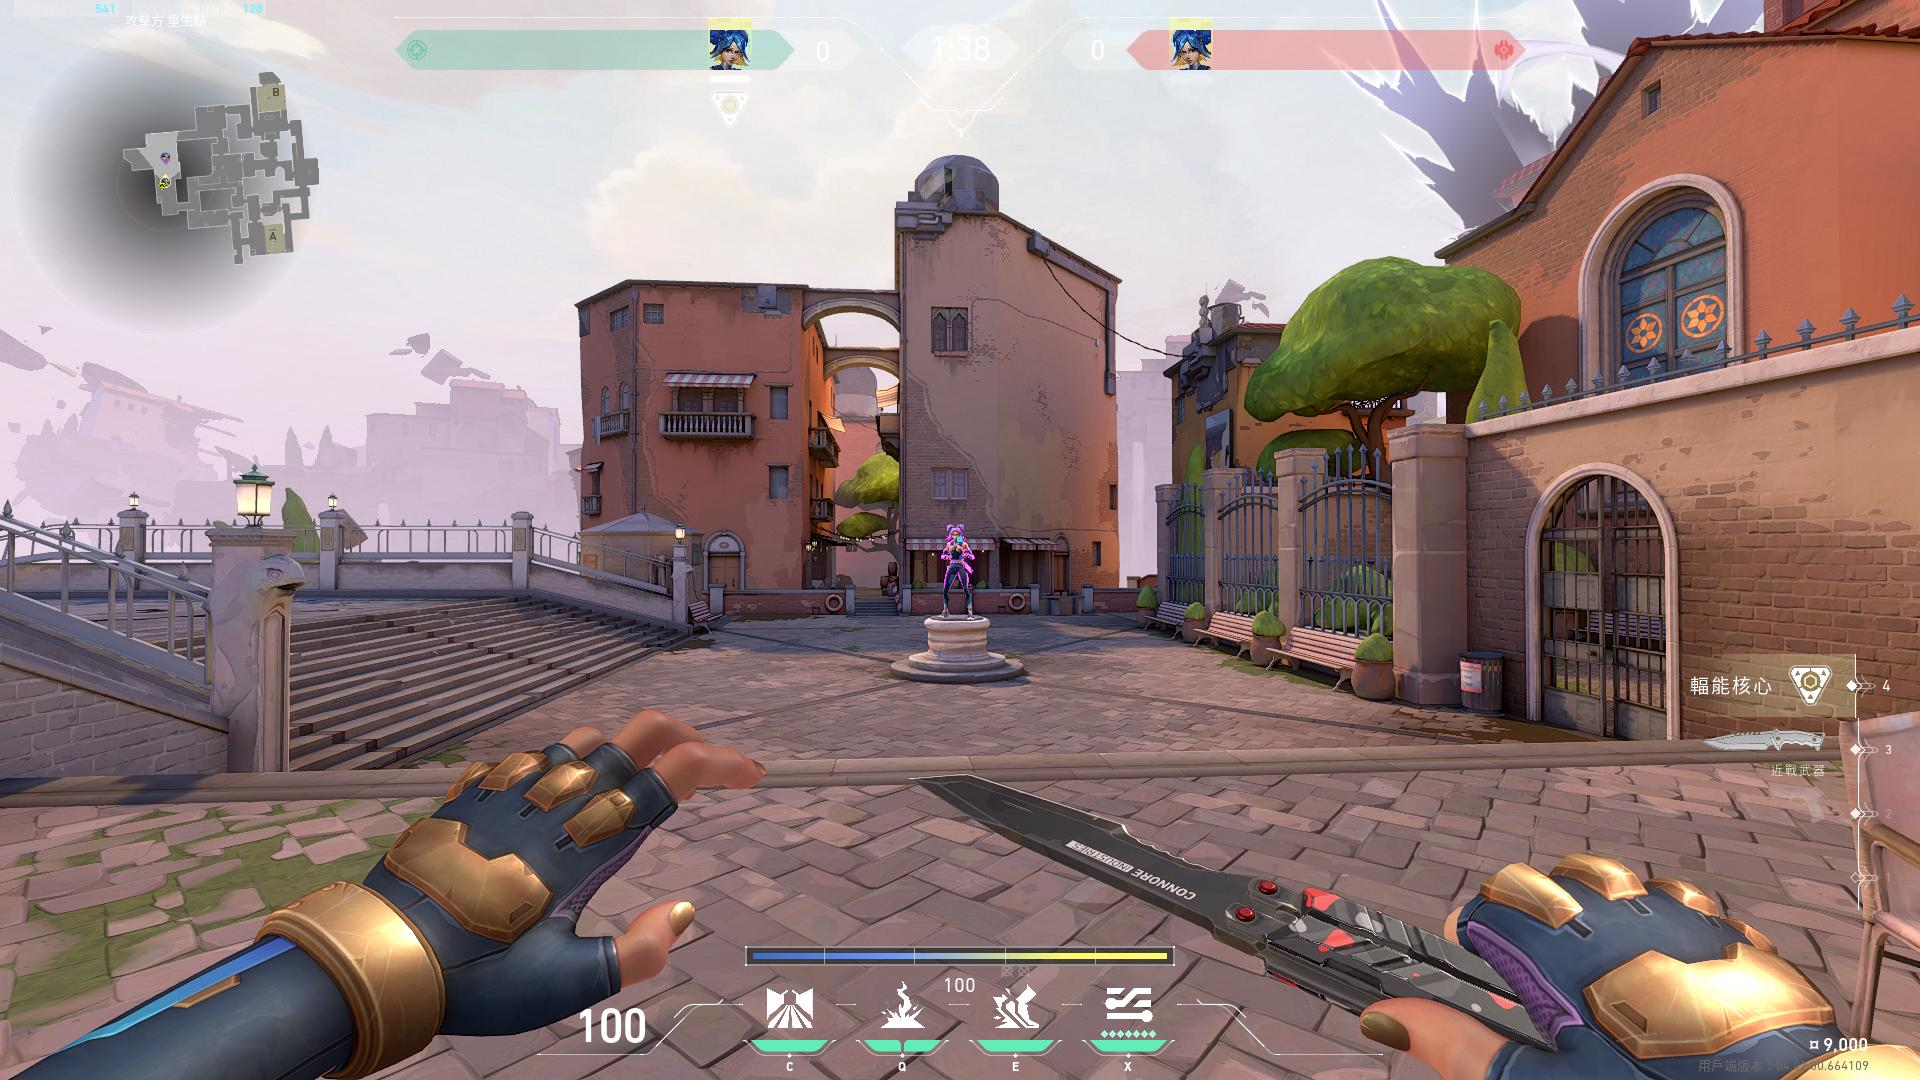enemyBody: (949, 546, 971, 571)
enemyHead: (952, 530, 965, 547)
